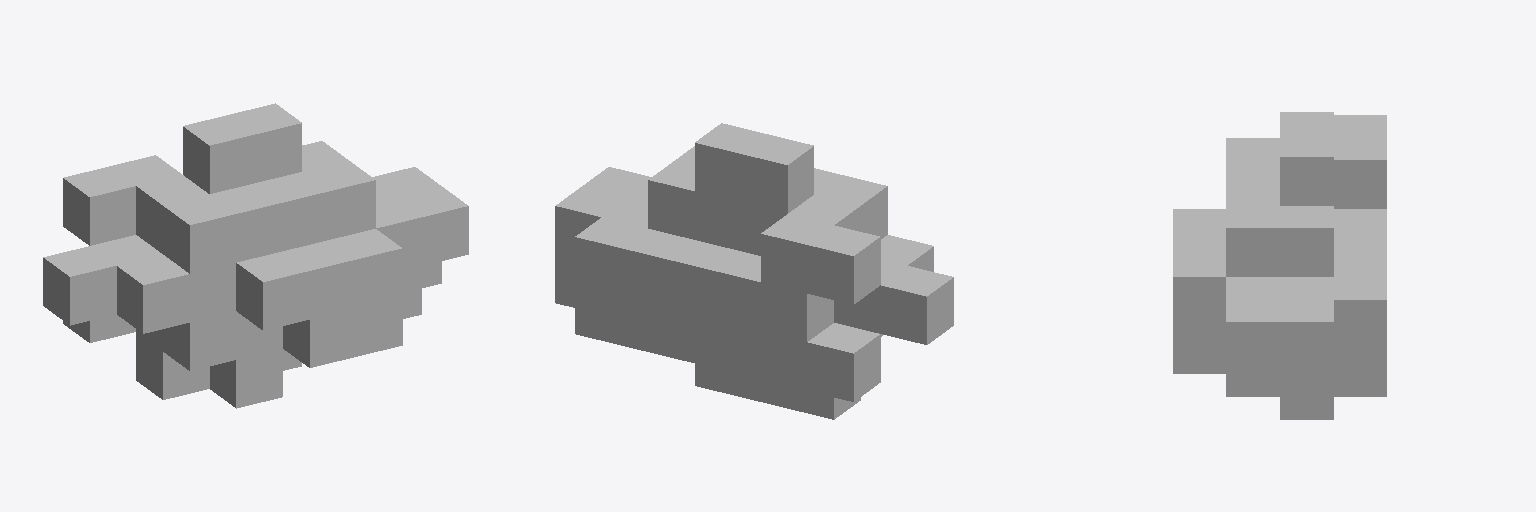
The model's file is Cloud1.obj.
The picture shows the model from 3 angles: view 1: azimuth 30°, elevation 25°; view 2: azimuth 150°, elevation 25°; view 3: azimuth 270°, elevation 25°; orthographic projection.
Parts seen in each view (by area): view 1: object 1; view 2: object 1; view 3: object 1.
Boxes of the visible parts, x1=… form: object 1: x1=43, y1=103, x2=468, y2=408; object 1: x1=555, y1=123, x2=953, y2=419; object 1: x1=1173, y1=112, x2=1386, y2=419.
Bounding box in the file's own units: 1.6 × 1 × 0.8.